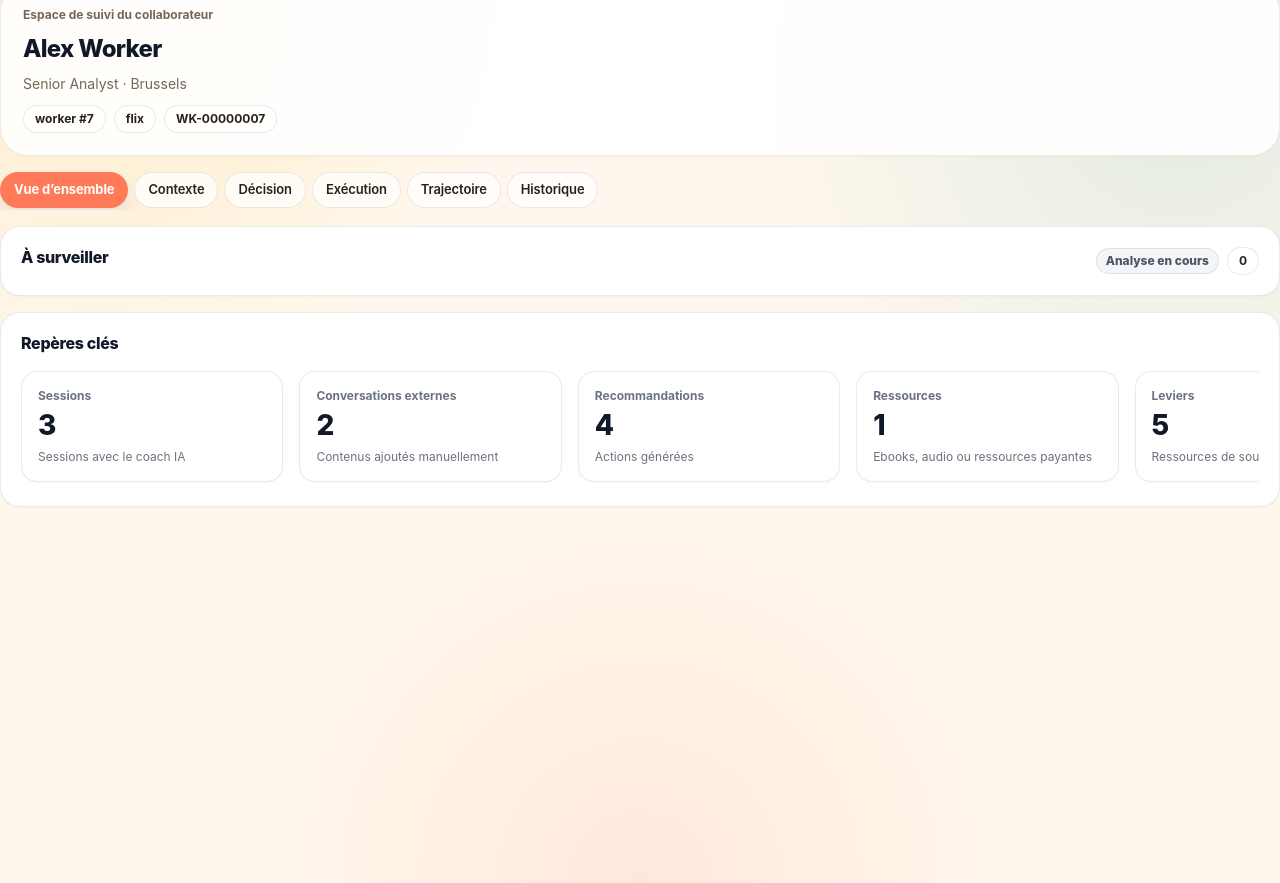
Test case: Organization Insights internationalization › localizes the completed Professional Intention state in French
This screenshot has width=1280, height=883.
Click the tab "Contexte" at (176, 190), box [134,172,218,208]
(page scrolled)
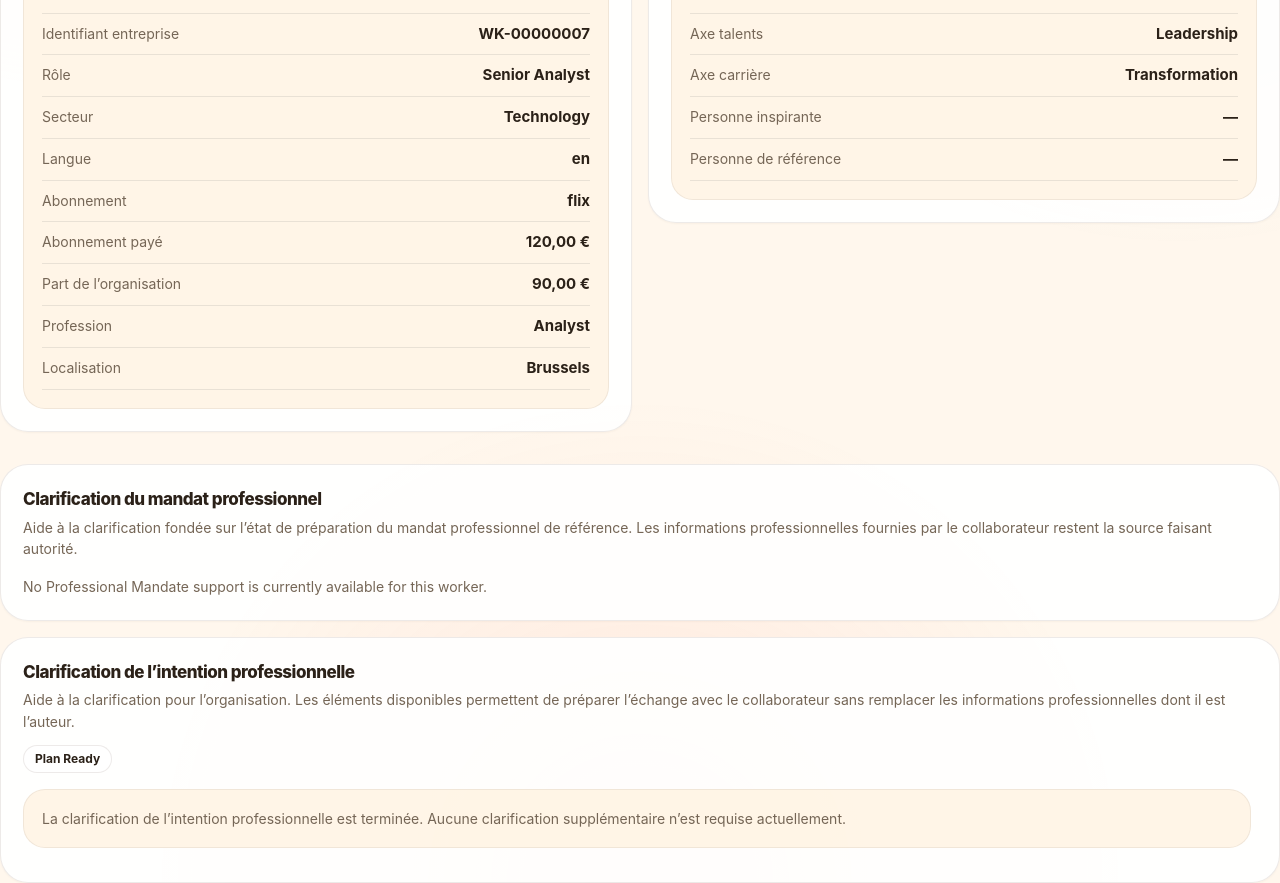
Expected: the text "La clarification de l’intention professionnelle est terminée. Aucune clarification supplémentaire n’est requise actuelle" is shown, [42,810,846,827]
